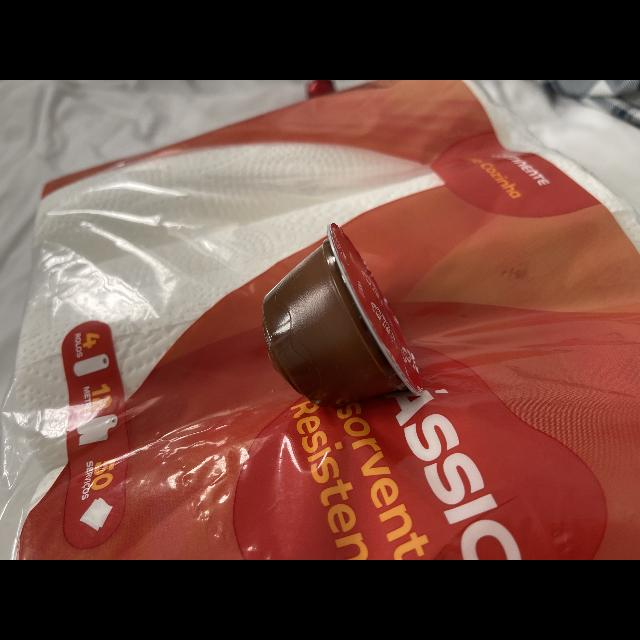intact_capsule: (235, 215, 435, 412)
